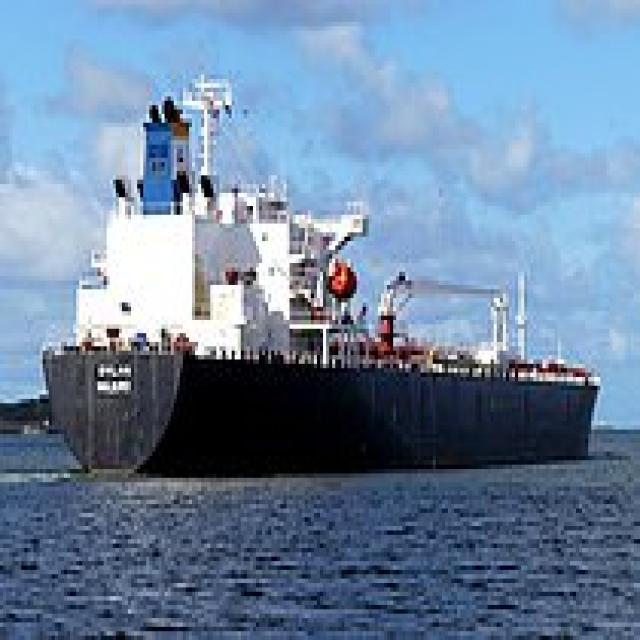Tanker: (37, 66, 600, 478)
